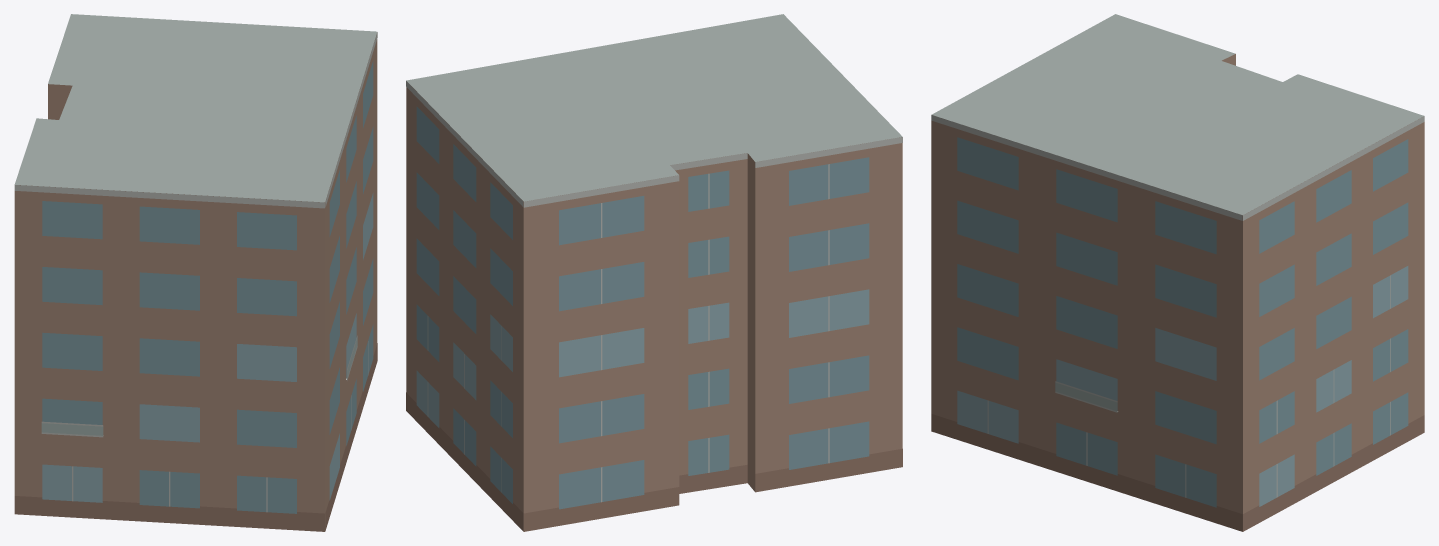
Rendered from survey-upis-32848717.glb.
The picture shows the model from 3 angles, left to right: view 1: azimuth 30°, elevation 25°; view 2: azimuth 150°, elevation 25°; view 3: azimuth 270°, elevation 25°; orthographic projection. The views are drawn at different scales.
Visible parts, largest first — view 1: survey-upis-32848717.tmp; view 2: survey-upis-32848717.tmp; view 3: survey-upis-32848717.tmp.
Part boxes in pixels (box(x1,y1,x2,y2)): survey-upis-32848717.tmp: box(14, 14, 377, 531); survey-upis-32848717.tmp: box(406, 14, 902, 531); survey-upis-32848717.tmp: box(931, 14, 1424, 531).
Bounding box in the file's own units: 18.14 × 13.3 × 18.78.
